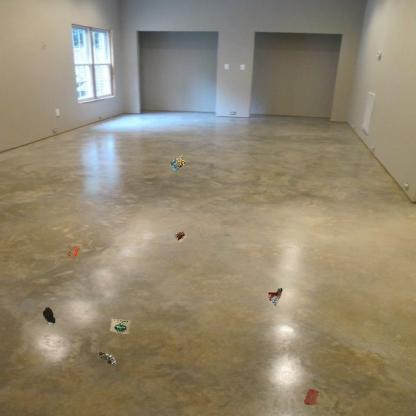dirty: (266, 285, 285, 308), (64, 242, 84, 262), (168, 153, 187, 173), (97, 348, 116, 366), (109, 319, 130, 334), (172, 230, 187, 243)
liquid: (303, 388, 320, 406), (42, 306, 55, 325)
